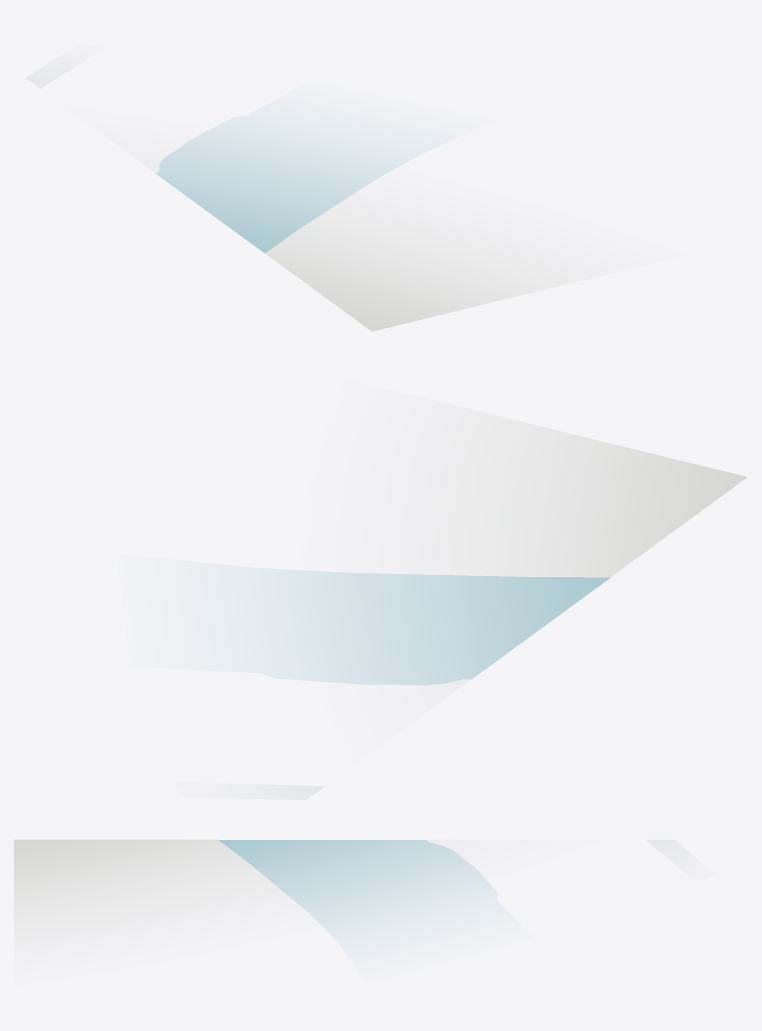
3 renders of one model, top to bottom at view 1: azimuth 30°, elevation 25°; view 2: azimuth 150°, elevation 25°; view 3: azimuth 270°, elevation 25°, orthographic. The views are drawn at different scales.
Parts seen in each view (by area): view 1: city; view 2: city; view 3: city.
Part boxes in pixels (<box>): city: <box>136,119,600,331</box>; city: <box>266,406,747,697</box>; city: <box>14,839,495,946</box>.
Size of the model in its own units: 274 by 0.4 by 481.
